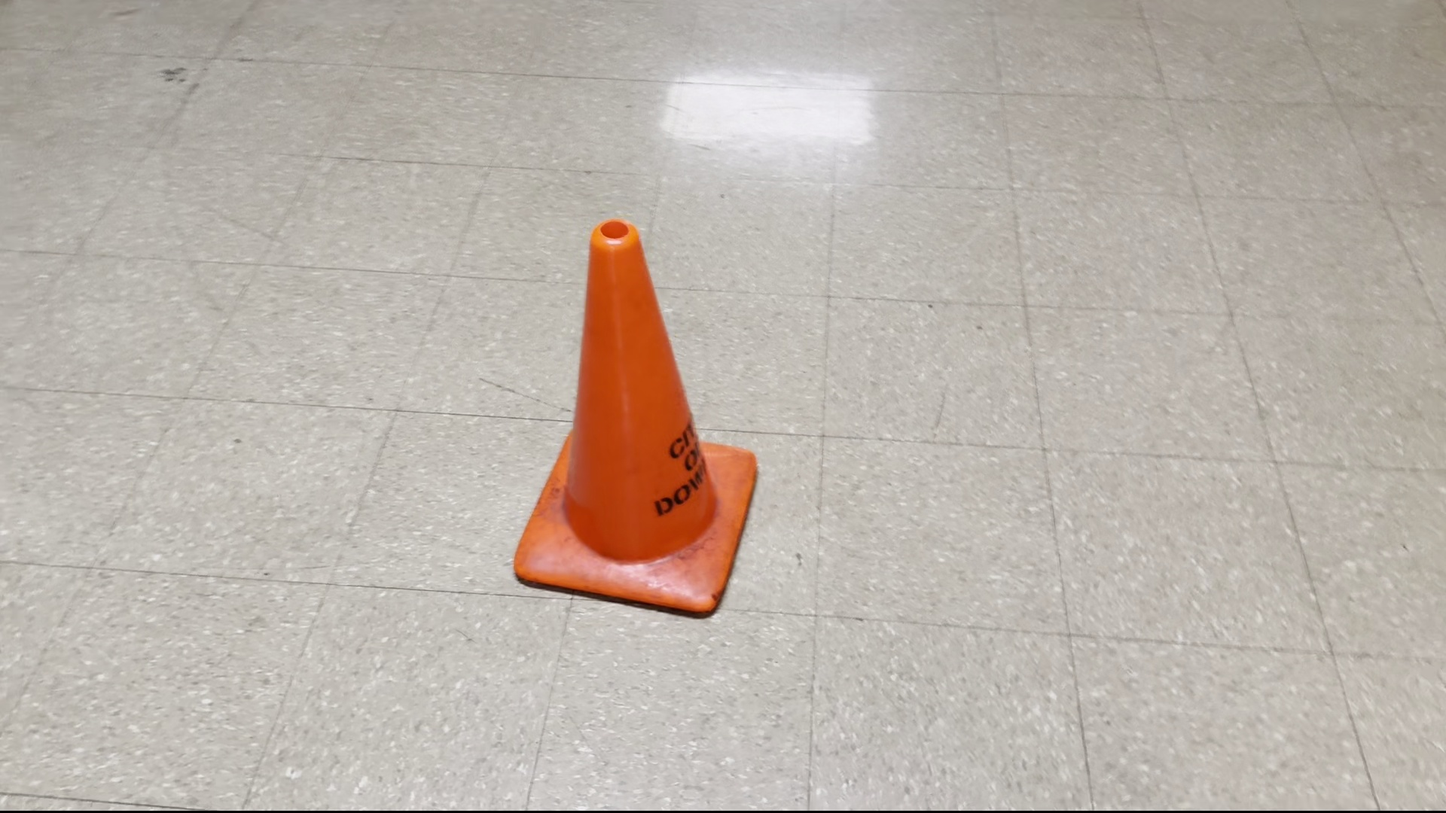traffic_cone: (512, 217, 759, 617)
